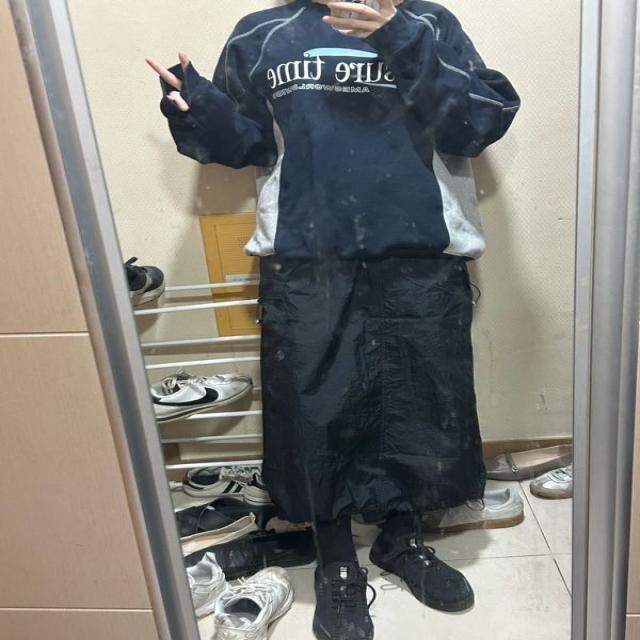mtm: (160, 5, 521, 264)
skirt: (256, 255, 485, 521)
